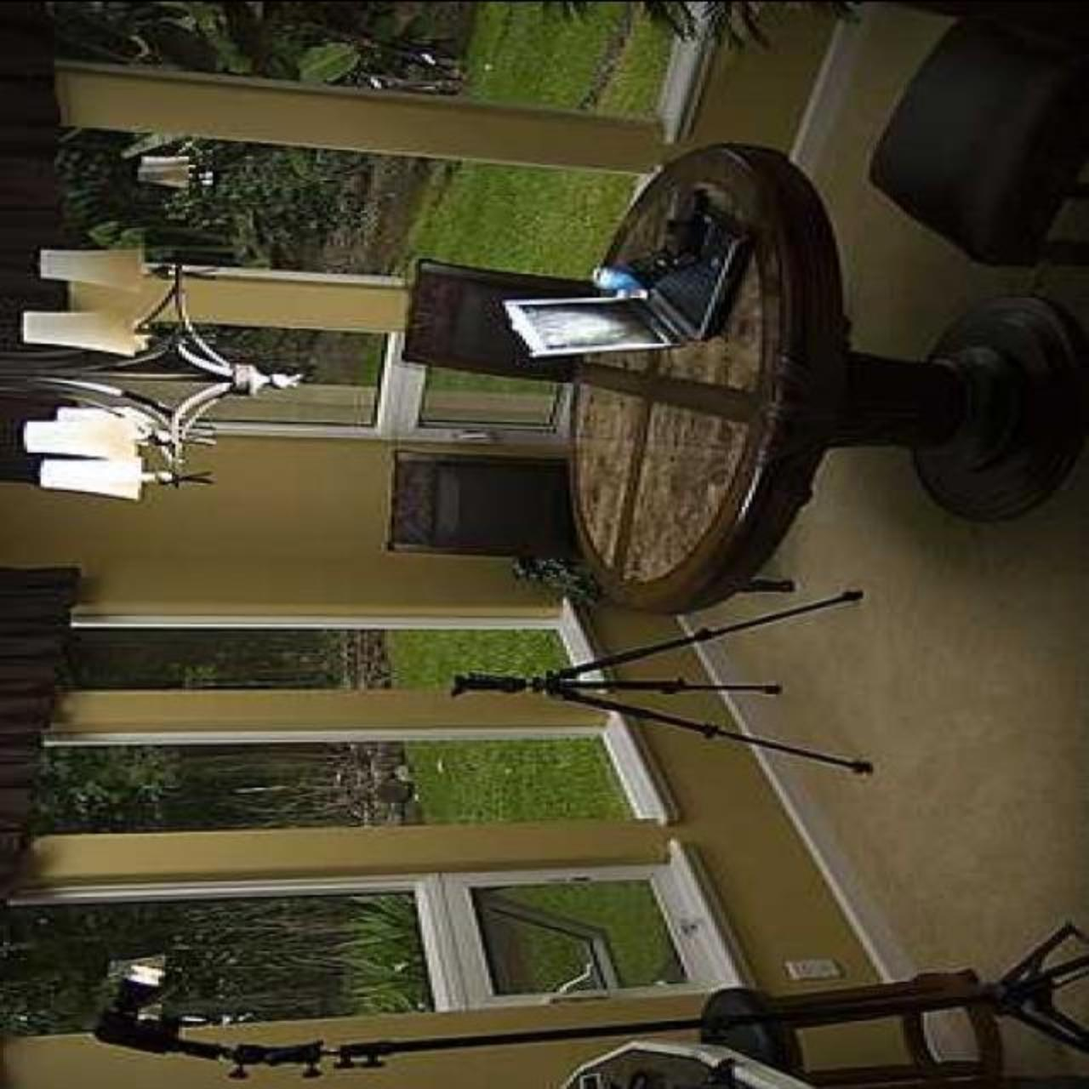laptop: (492, 202, 761, 362)
